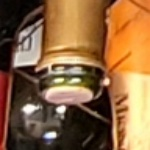bottle: (26, 46, 117, 118)
